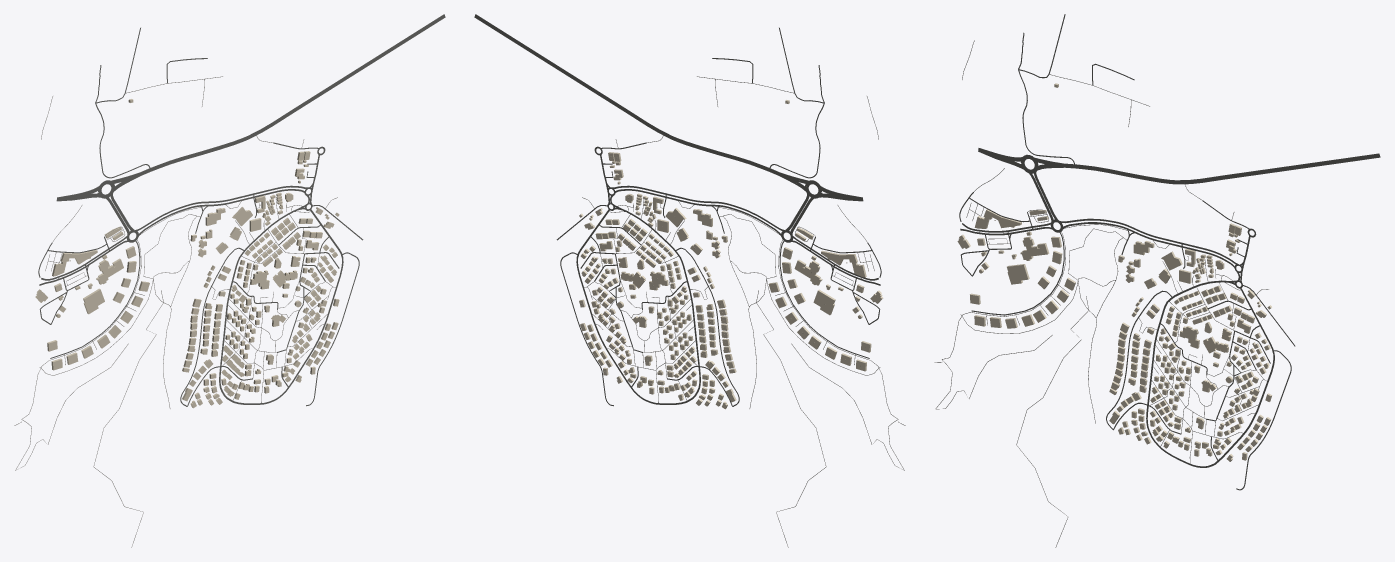
The model's file is historic-palestine-09_27_3509_3217.glb.
3 renders of one model, left to right at view 1: azimuth 30°, elevation 25°; view 2: azimuth 150°, elevation 25°; view 3: azimuth 330°, elevation 25°, orthographic. The views are drawn at different scales.
Visible parts, largest first — view 1: Road 55.006, Road קוממיות; view 2: Road 55.006, Road קוממיות; view 3: Road 55.006, Road קוממיות.
Boxes of the visible parts, bbox=[...] form: Road 55.006: bbox=[150, 14, 445, 171]; Road קוממיות: bbox=[219, 209, 343, 404]; Road 55.006: bbox=[474, 14, 769, 171]; Road קוממיות: bbox=[576, 209, 700, 404]; Road 55.006: bbox=[1075, 153, 1380, 184]; Road קוממיות: bbox=[1146, 280, 1274, 467].
Bounding box in the file's own units: 1371 × 1574 × 9.09.
